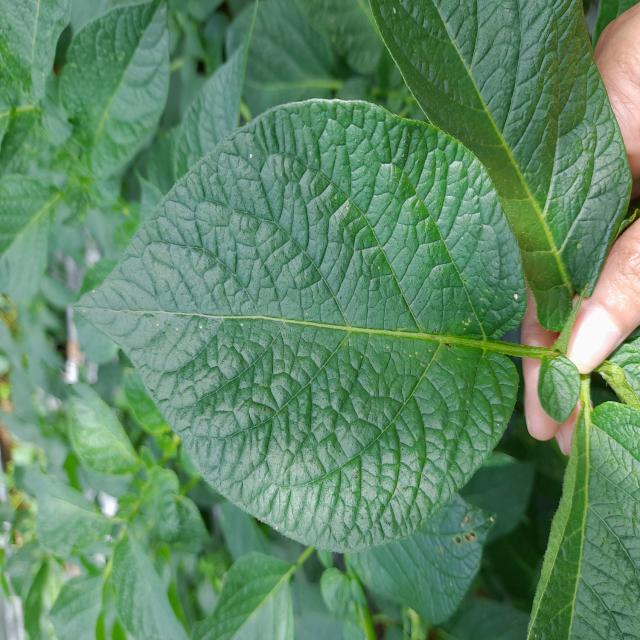healthy: (70, 96, 530, 555)
